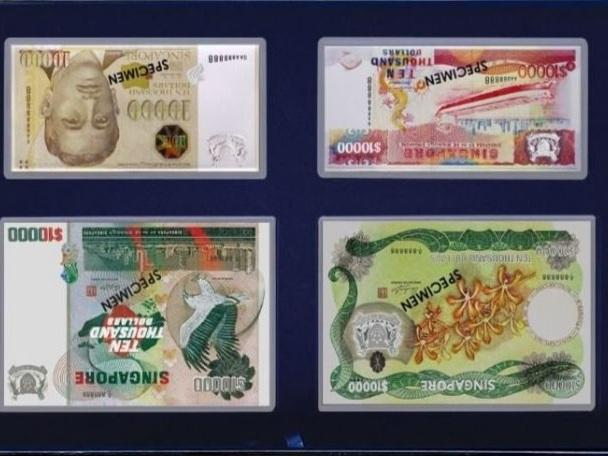10000SingaporeDollar: (326, 47, 580, 171)
